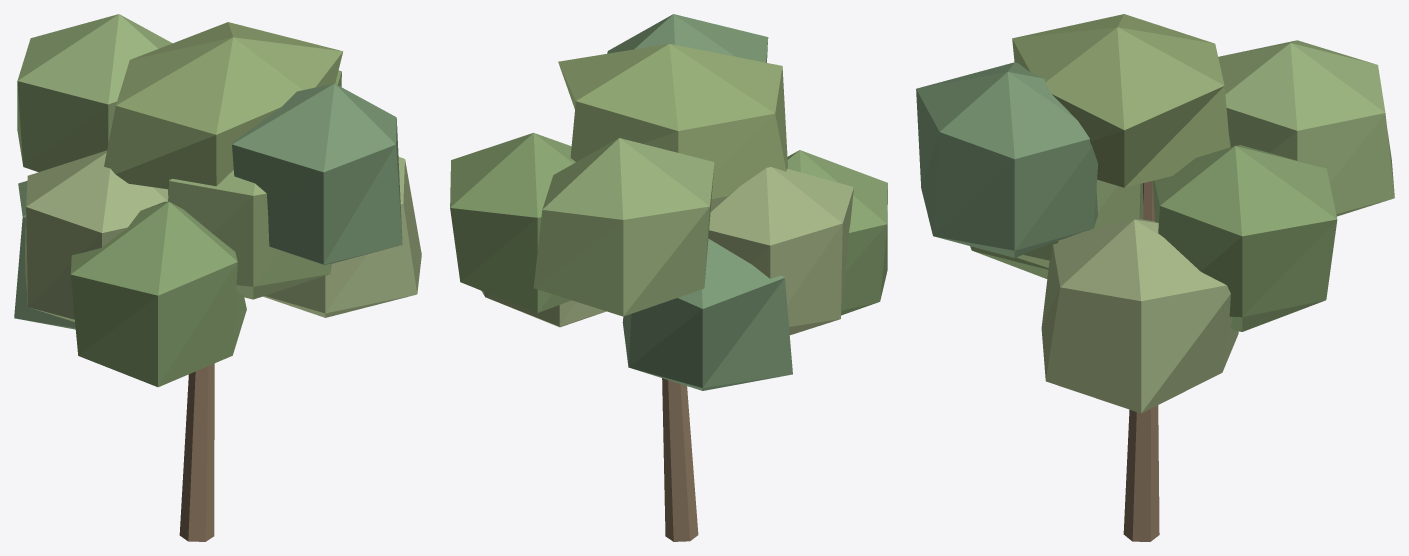
3 renders of one model, left to right at view 1: azimuth 30°, elevation 25°; view 2: azimuth 150°, elevation 25°; view 3: azimuth 270°, elevation 25°, orthographic. The views are drawn at different scales.
Bounding box in the file's own units: 6.87 × 8.33 × 6.94.
